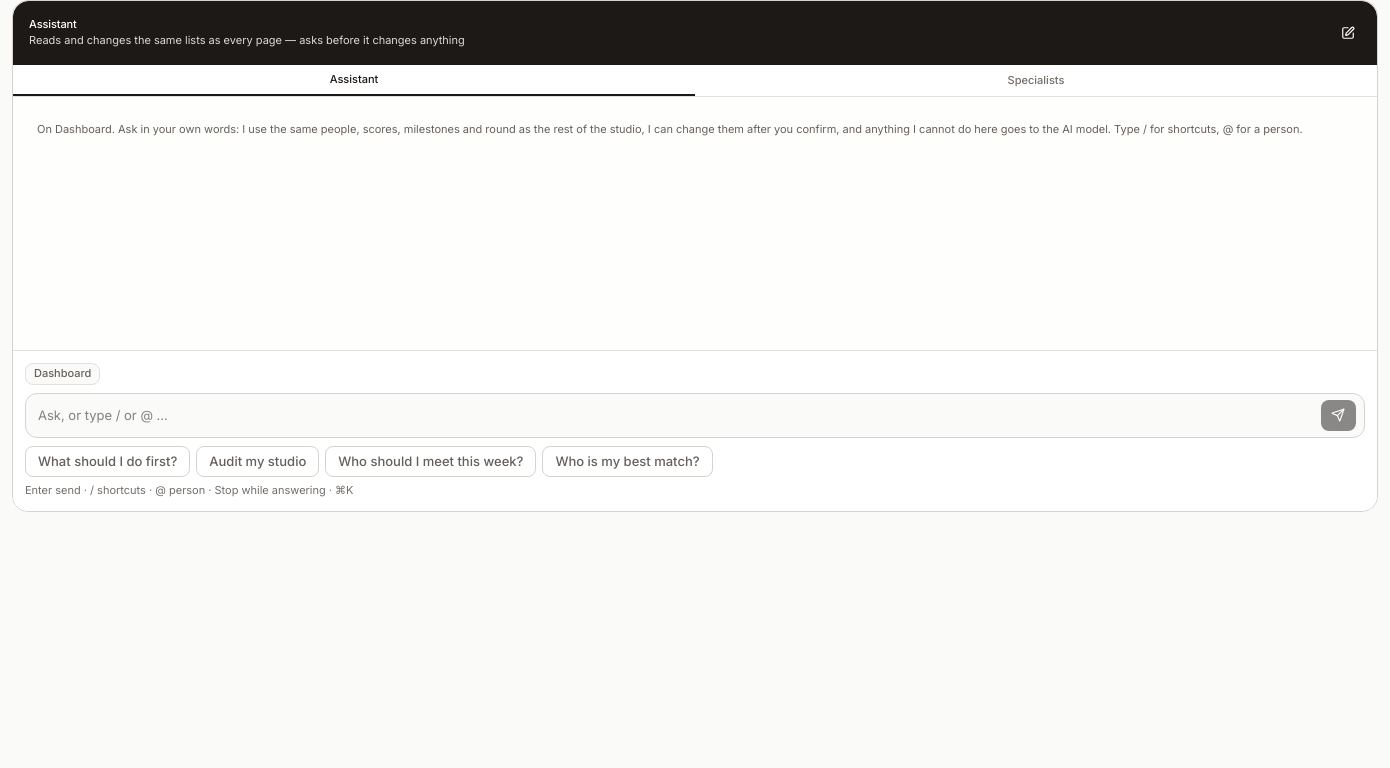
it: studio chat proposals › shows Confirm and Cancel for a proposed write, and stores the turn under the same id
Type "add milestone Ship the private beta" into the field named "Message the assistant" at coordinates (671, 415), box x1=30 y1=398 x2=1312 y2=433
Then press Enter
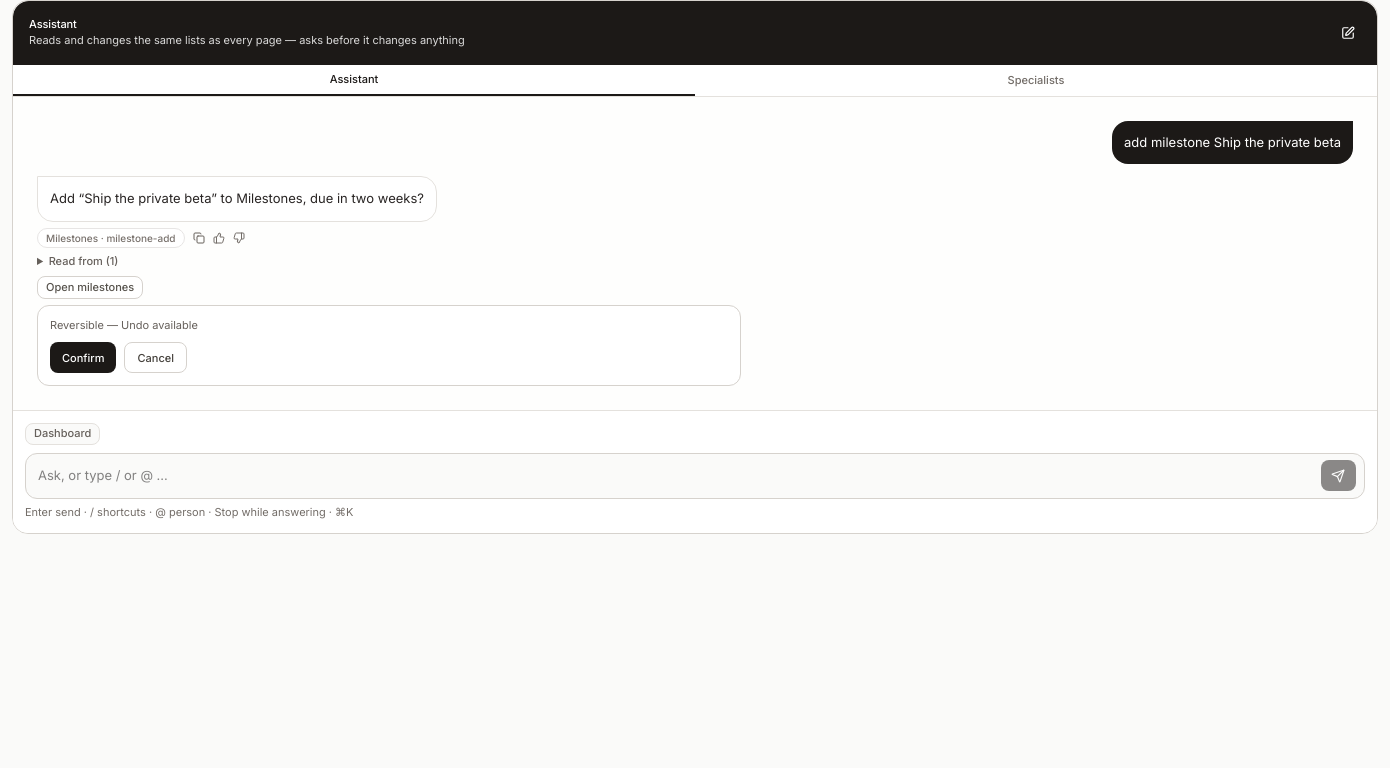
Expected: the button "Confirm" is shown, x1=50 y1=342 x2=116 y2=373
Result: the button "Cancel" is shown at x1=124 y1=342 x2=187 y2=373
